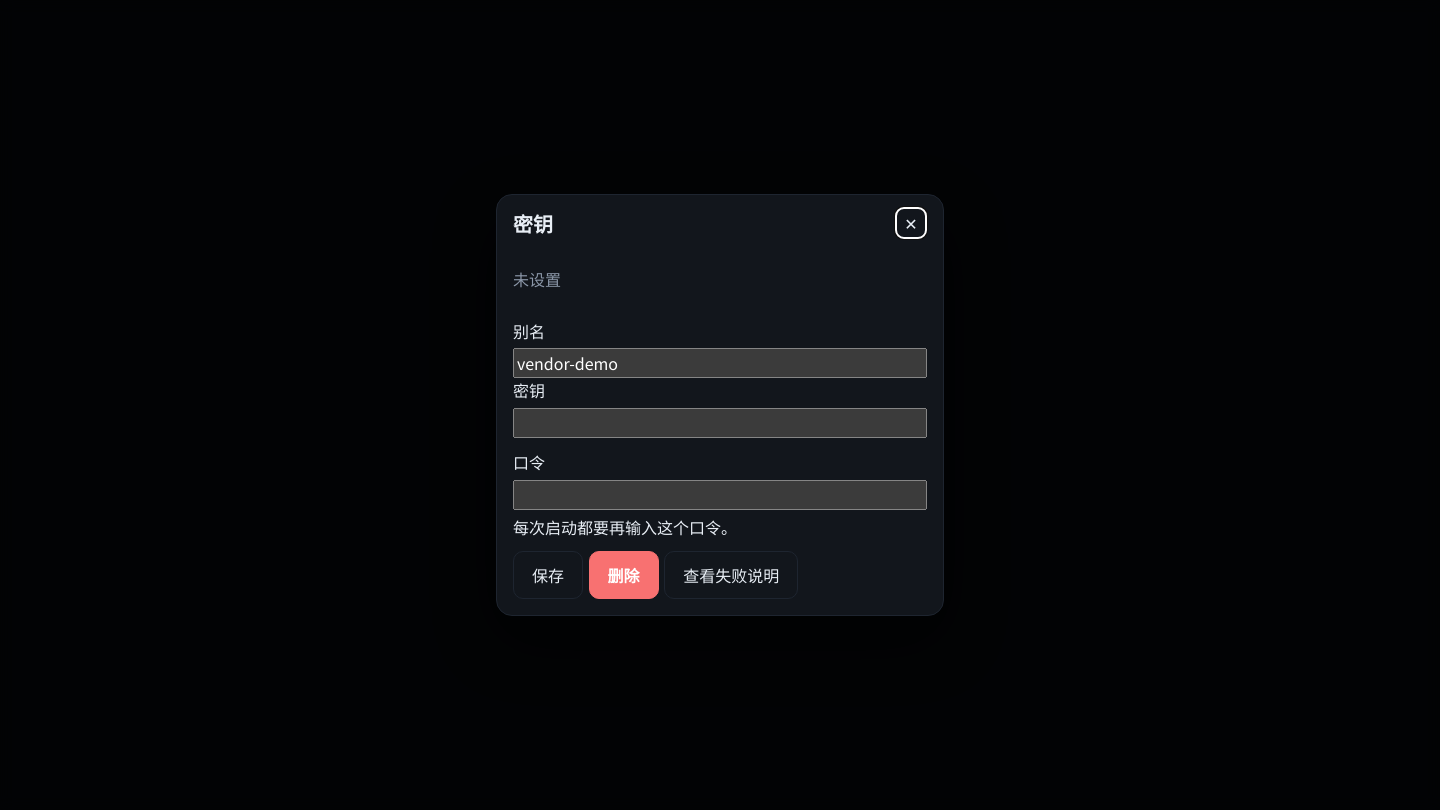
Test: secret vault panel › does not claim a passphrase vault is locked when the file is absent
Check: the field with test id "secret-alias" is shown, box [513,348,927,378]
Check: the password field with test id "secret-passphrase" is shown, box [513,480,927,510]
In the password field with test id "secret-value": [720, 423] box [513,408,927,438], type "alphaloop-e2e-secret"
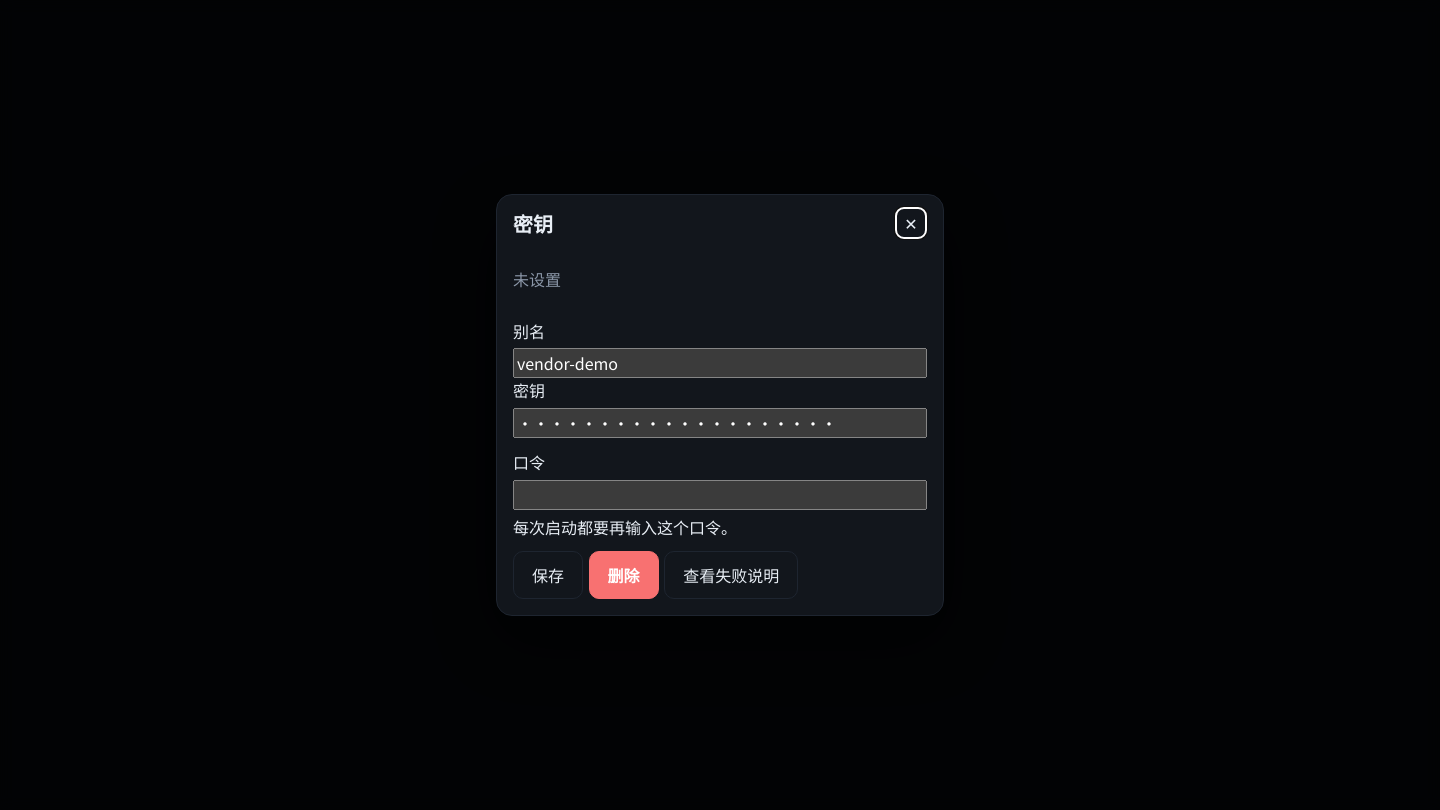
In the password field with test id "secret-passphrase": [720, 495] box [513,480,927,510], type "correct horse"
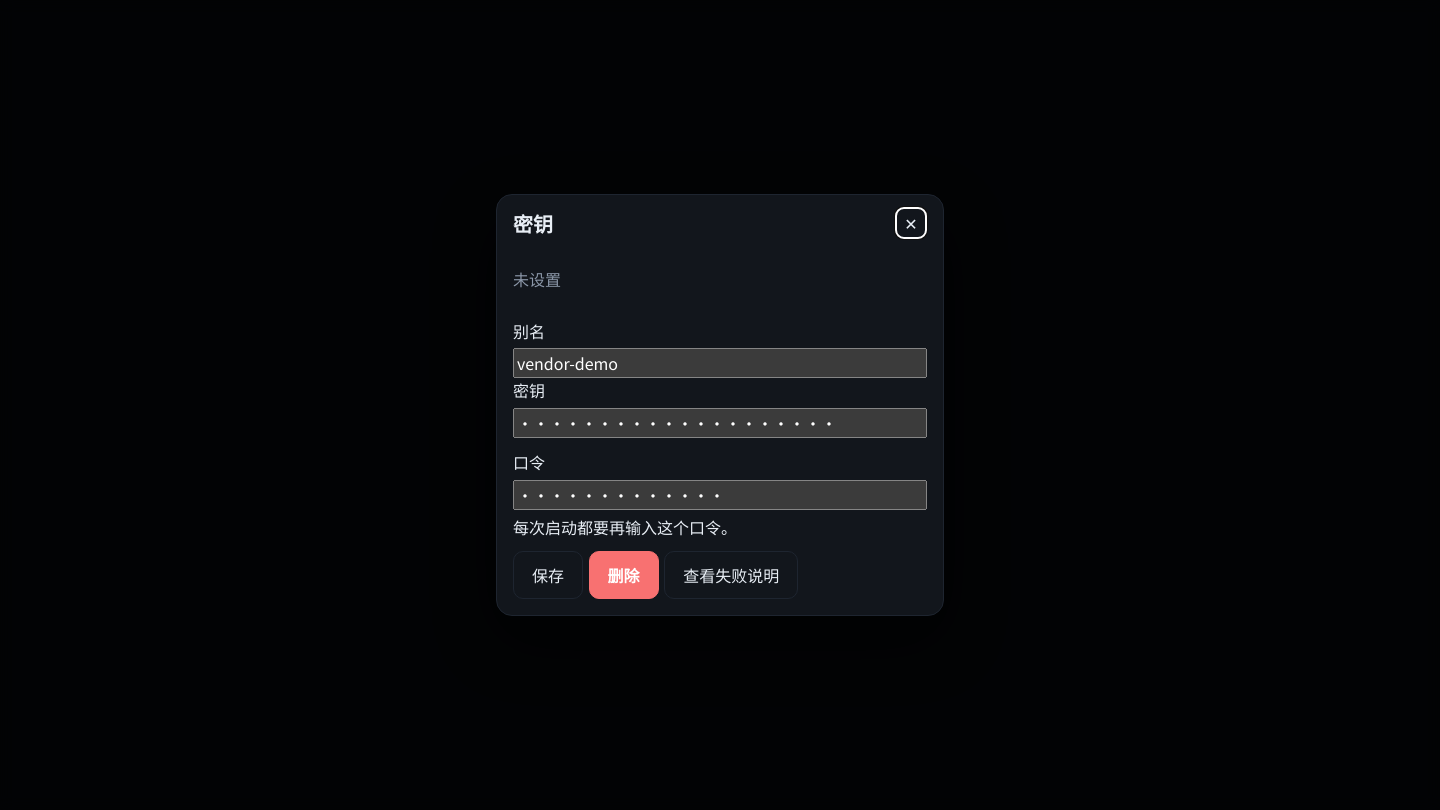
Click the button with test id "secret-save": [548, 575] box [513,551,583,599]
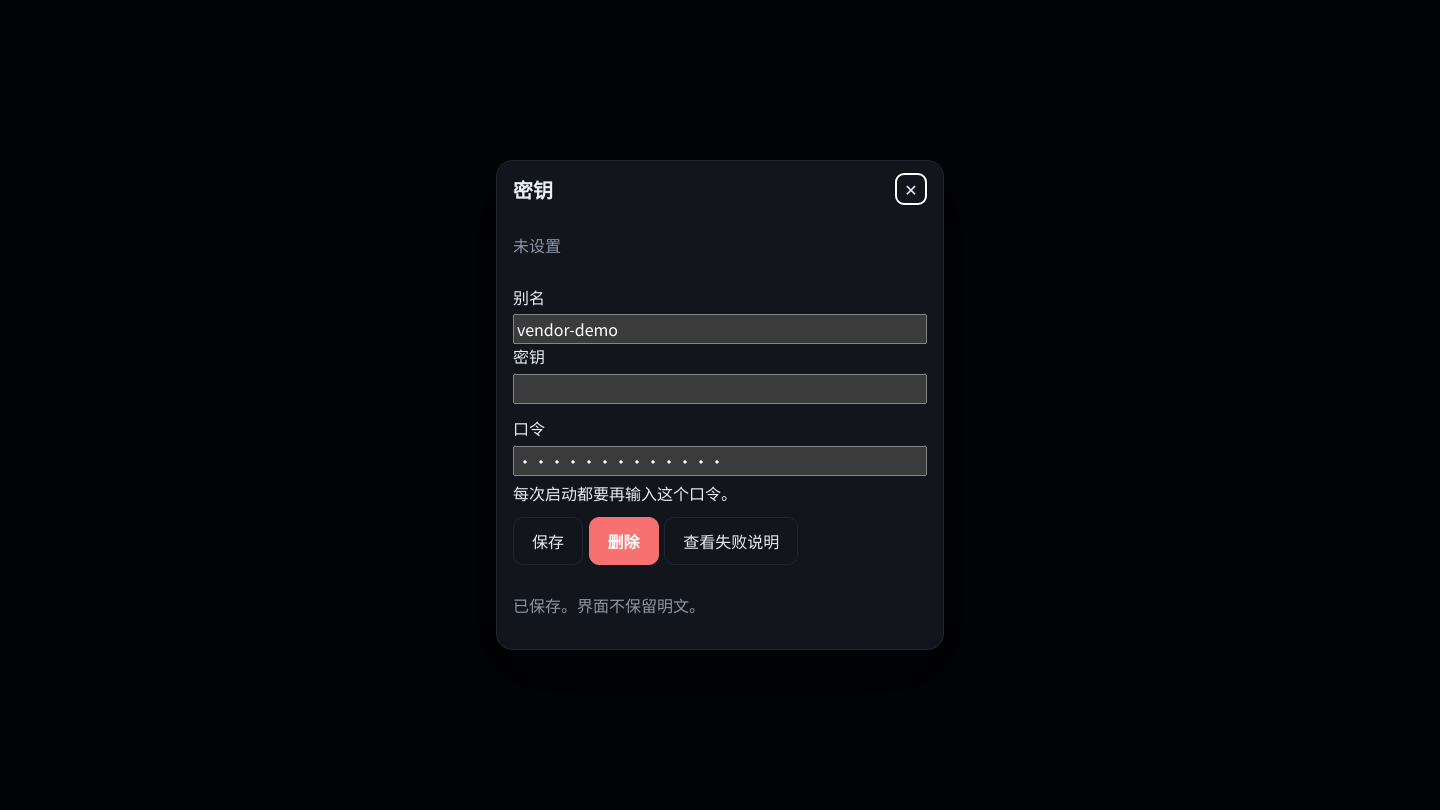
Check: the text "已保存。界面不保留明文。" is shown, box [513,593,705,617]
